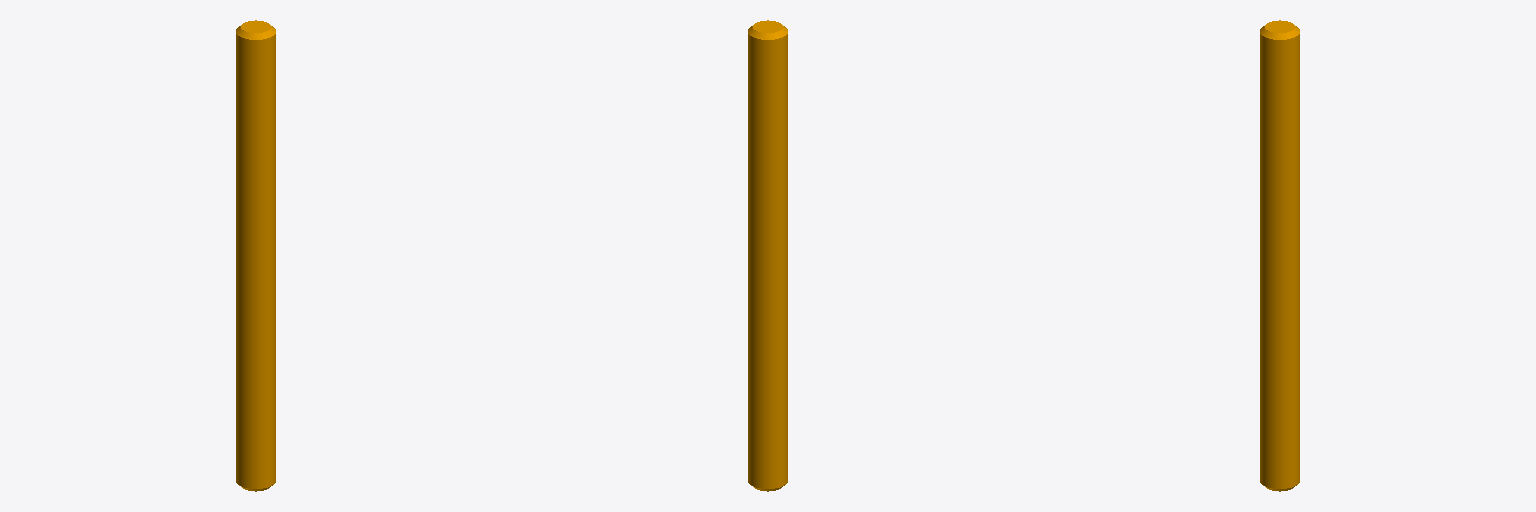
robot.urdf — factory_round_peg_4mm_tight:
<?xml version="1.0"?>
<robot name="factory_round_peg_4mm_tight">
    <link name="factory_round_peg_4mm_tight">
        <visual>
            <geometry>
                <mesh filename="../mesh/factory_insertion/factory_round_peg_4mm_tight.obj"/>
            </geometry>
        </visual>
        <collision>
            <geometry>
                <mesh filename="../mesh/factory_insertion/factory_round_peg_4mm_tight.obj"/>
            </geometry>
            <sdf resolution="256"/>
        </collision>
    </link>
</robot>

--- Facts derived from the render (not from the file) ---
3 views of the same robot in one strip: view 1: azimuth 30°, elevation 25°; view 2: azimuth 150°, elevation 25°; view 3: azimuth 270°, elevation 25° (orthographic).
Model factory_round_peg_4mm_tight with 1 links and 0 joints (none), rooted at factory_round_peg_4mm_tight, posed every joint at zero.
Links seen in each view (by area): view 1: factory_round_peg_4mm_tight; view 2: factory_round_peg_4mm_tight; view 3: factory_round_peg_4mm_tight.
Boxes of the visible links, x1,y1,x2,y2 form: factory_round_peg_4mm_tight: (236,20,275,491); factory_round_peg_4mm_tight: (748,20,787,491); factory_round_peg_4mm_tight: (1260,20,1299,491).
Size in the robot's own frame: 0.004 by 0.004 by 0.05 metres.
Meshes: 1 distinct files referenced, 1 mesh visuals loaded (1 OBJ).